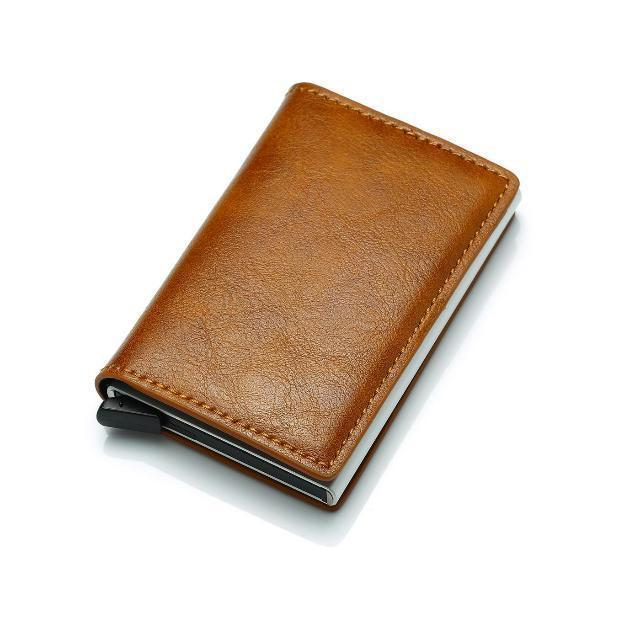wallet: (98, 82, 520, 506)
